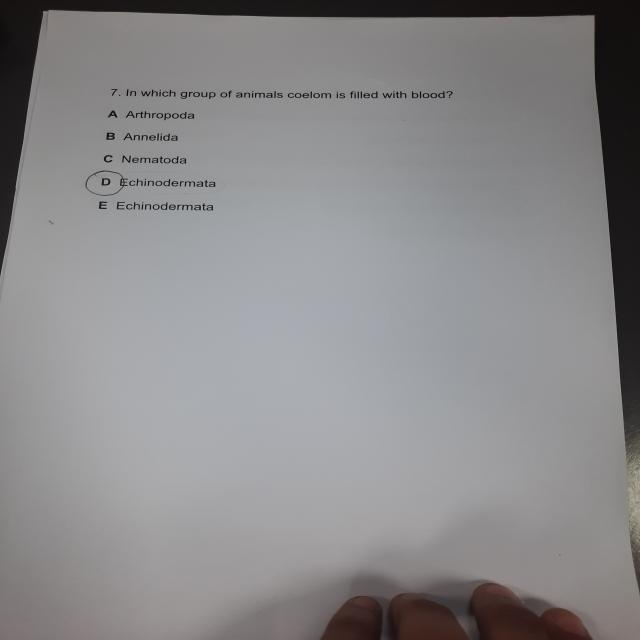D: (83, 169, 128, 199)
